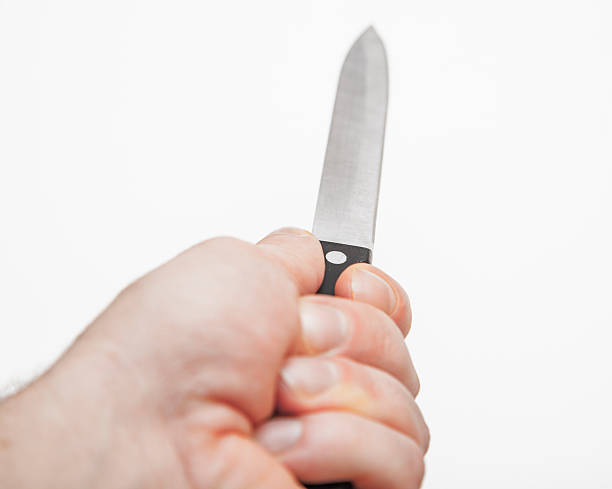knife: (309, 22, 390, 294)
